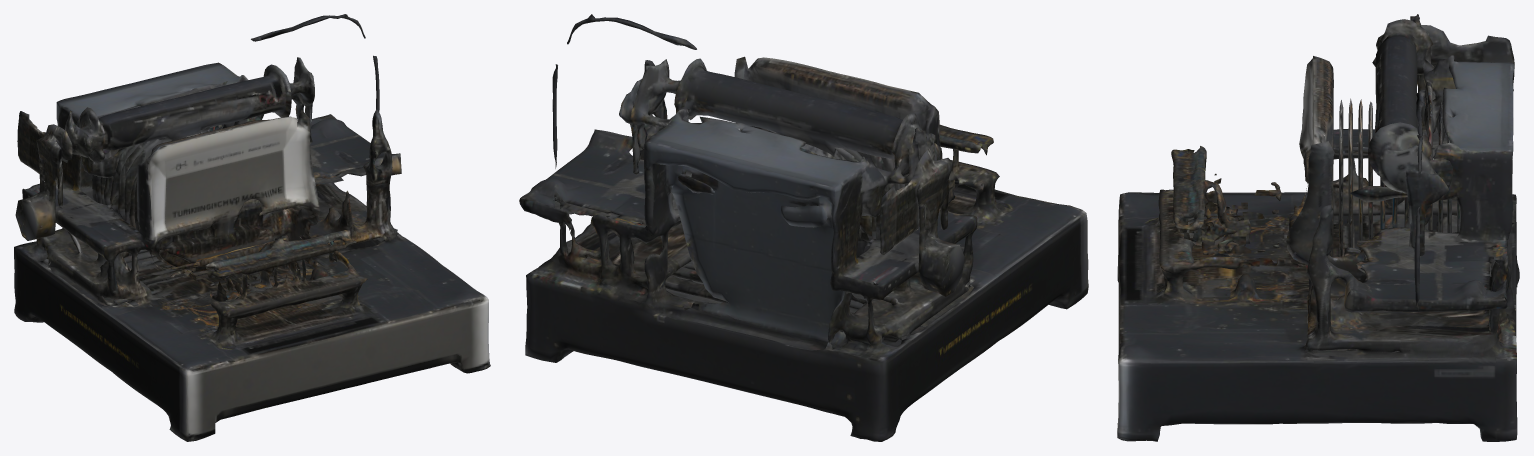
The picture shows the model from 3 angles, left to right: view 1: azimuth 30°, elevation 25°; view 2: azimuth 150°, elevation 25°; view 3: azimuth 270°, elevation 25°; orthographic projection. The views are drawn at different scales.
Bounding box in the file's own units: 1.99 × 1.46 × 1.76.
Materials: 1 (1 with a texture image).
